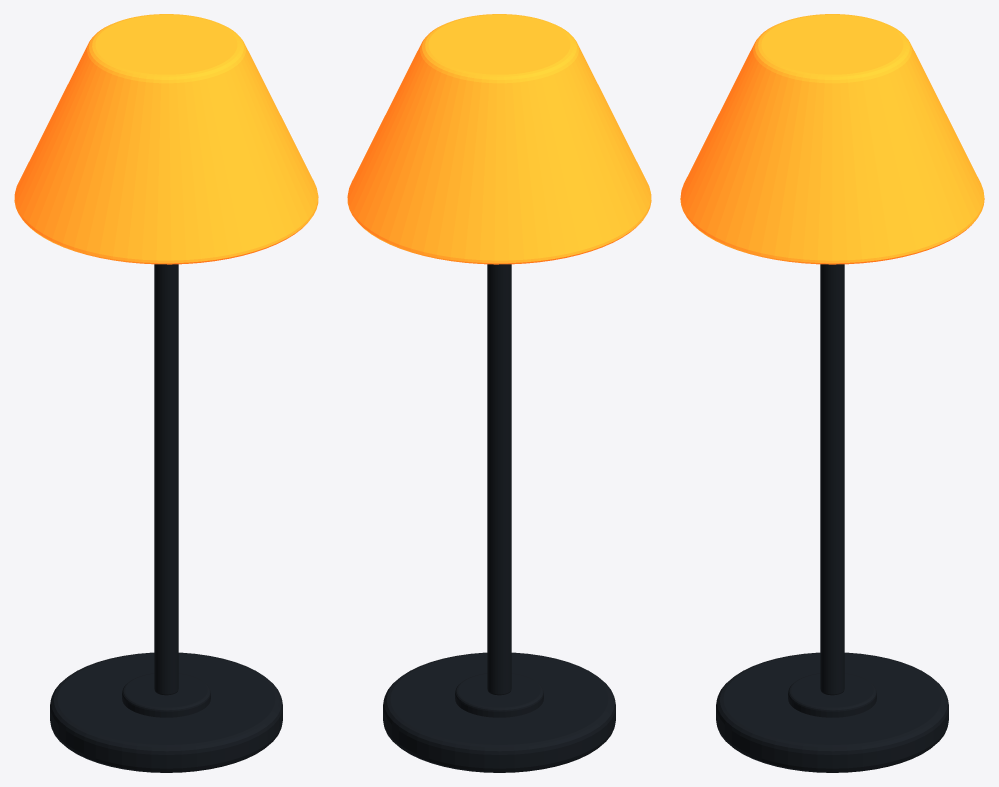
The model's file is SunsetGlowFloorLamp.glb.
3 views of the same model, side by side, from view 1: azimuth 30°, elevation 25°; view 2: azimuth 150°, elevation 25°; view 3: azimuth 270°, elevation 25° (orthographic).
Parts seen in each view (by area): view 1: GlowHousing, Base, Stem, BaseInset; view 2: GlowHousing, Base, Stem, BaseInset; view 3: GlowHousing, Base, Stem, BaseInset.
Boxes of the visible parts, x1,y1,x2,y2 form: GlowHousing: (14, 14, 318, 264); Base: (50, 652, 282, 772); Stem: (154, 264, 178, 695); BaseInset: (122, 673, 210, 717); GlowHousing: (347, 14, 651, 264); Base: (383, 652, 615, 772); Stem: (487, 264, 511, 695); BaseInset: (455, 673, 543, 717); GlowHousing: (680, 14, 984, 264); Base: (716, 652, 948, 772); Stem: (820, 264, 844, 695); BaseInset: (788, 673, 876, 717).
Size of the model in its own units: 0.8092 by 2 by 0.8092.
